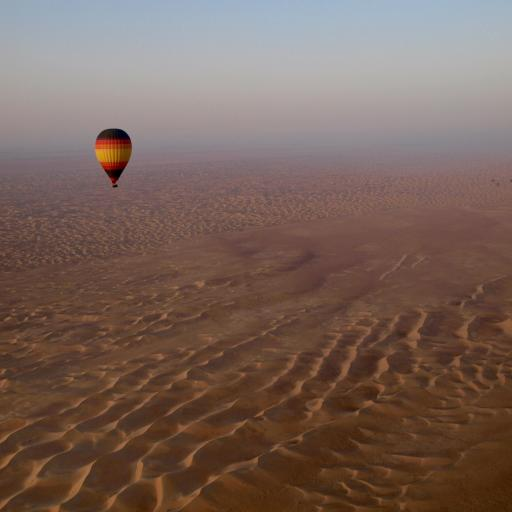hot air ballon: (94, 122, 133, 192)
